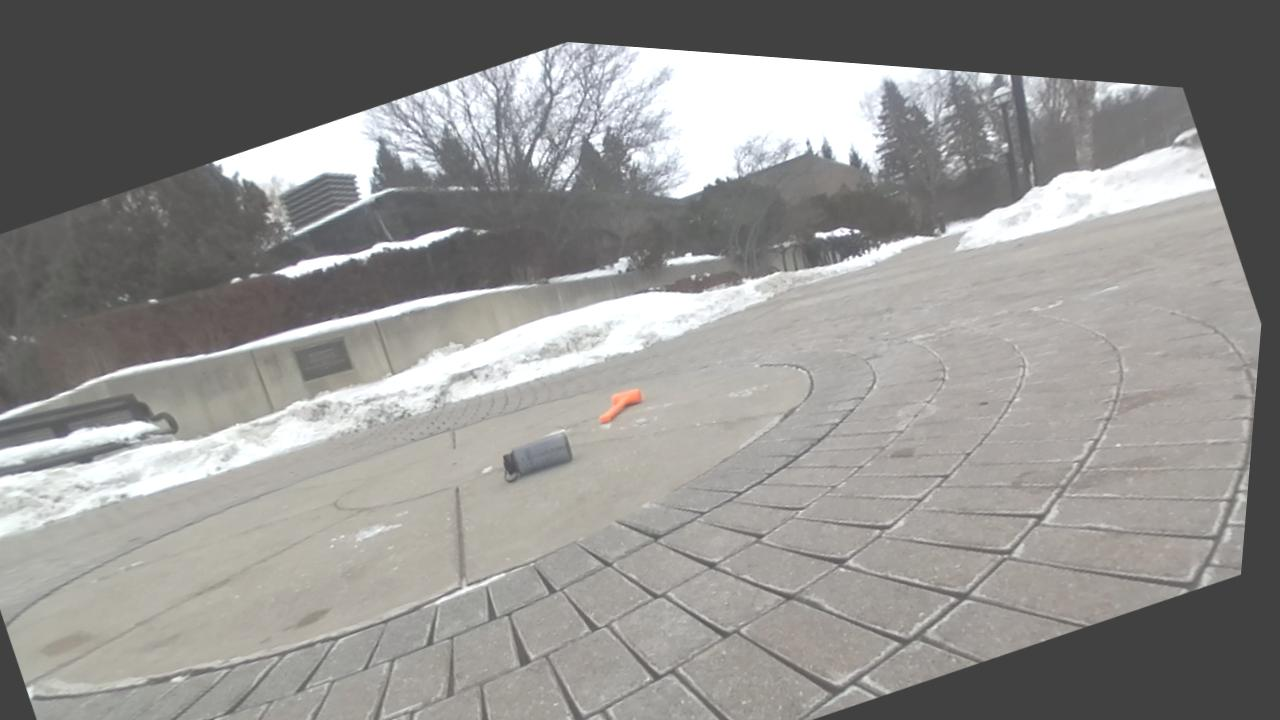bottle: (502, 434, 572, 482)
mallet: (599, 389, 640, 423)
